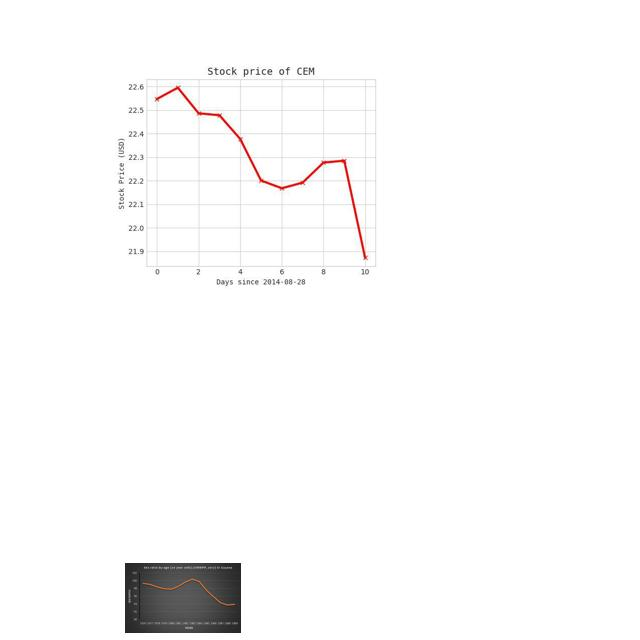Graph: (95, 50, 419, 293), (125, 563, 241, 633)
